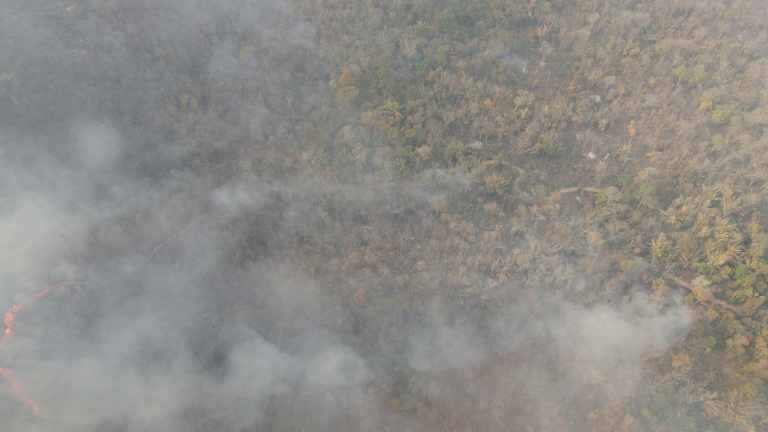fire: (1, 272, 82, 432), (145, 215, 218, 260)
smoke: (20, 146, 370, 426), (527, 304, 687, 407)
